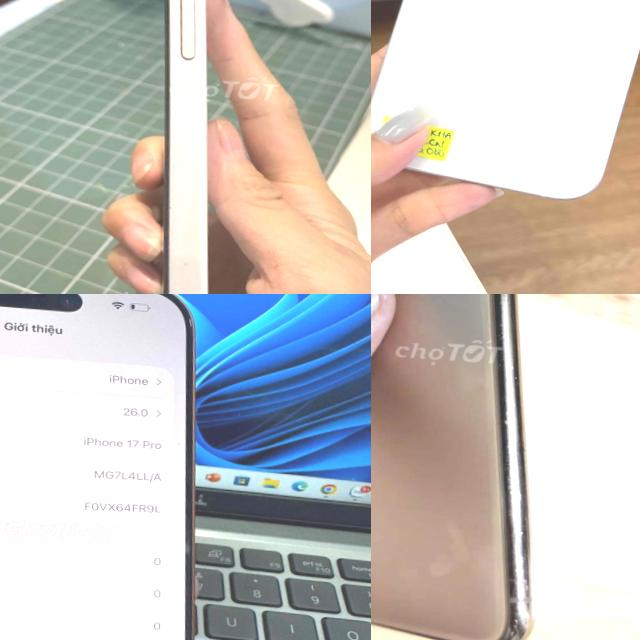gen_11: (371, 294, 534, 640)
gen_12_13: (121, 0, 249, 294)
gen_15: (371, 0, 640, 226)
gen_17: (0, 294, 239, 640)
